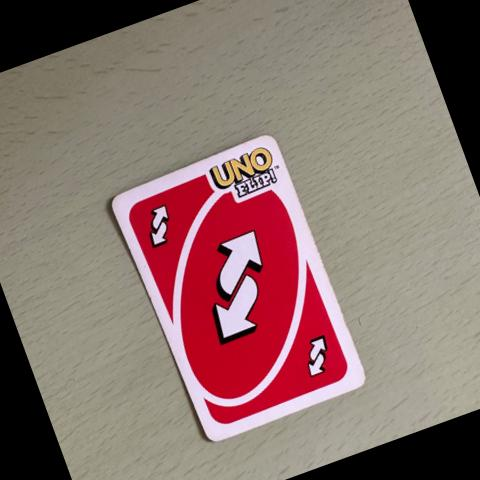lredrevers-20: (120, 184, 195, 270)
